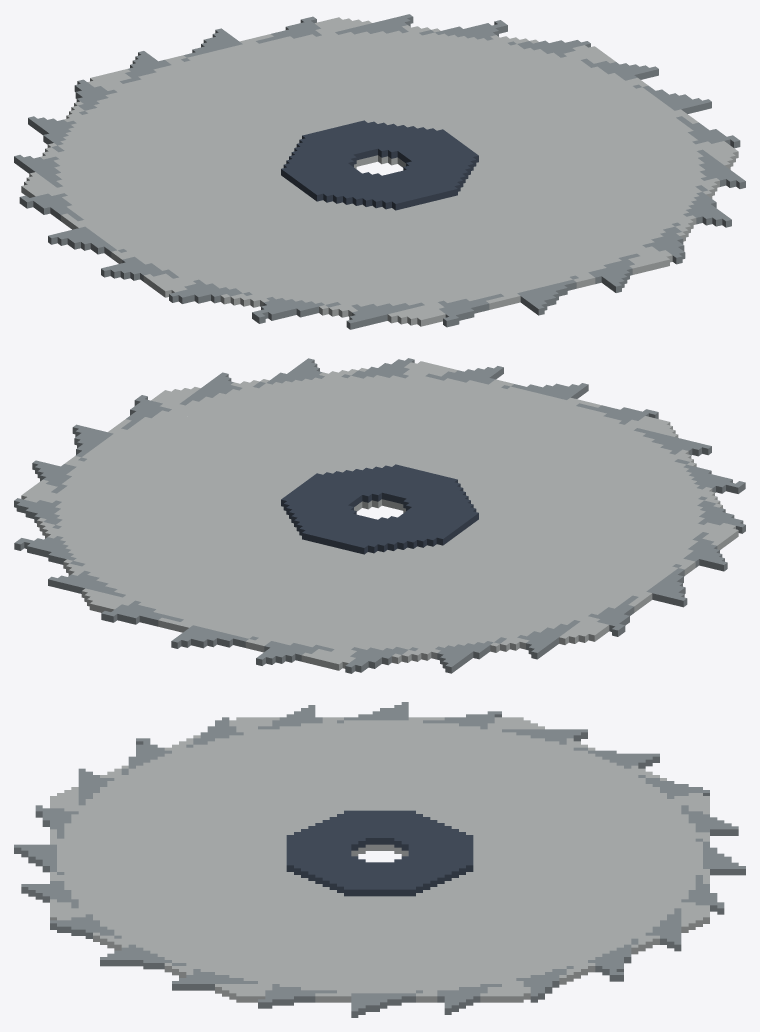
Rendered from circsaw_blade.glb.
3 renders of one model, top to bottom at view 1: azimuth 30°, elevation 25°; view 2: azimuth 150°, elevation 25°; view 3: azimuth 270°, elevation 25°, orthographic.
Visible parts, largest first — view 1: circsaw_blade:compound; view 2: circsaw_blade:compound; view 3: circsaw_blade:compound.
Boxes of the visible parts, x1,y1,x2,y2 form: circsaw_blade:compound: (14, 14, 745, 329); circsaw_blade:compound: (14, 358, 745, 673); circsaw_blade:compound: (14, 702, 745, 1017).
Bounding box in the file's own units: 0.204 × 0.004 × 0.204.
